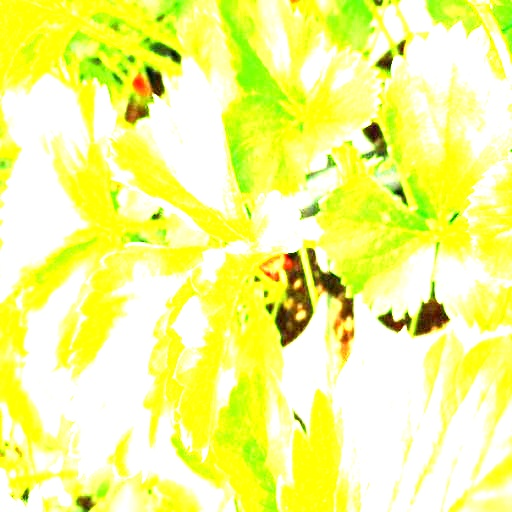Powdery Mildew Leaf: (164, 245, 274, 462), (101, 86, 252, 242)
